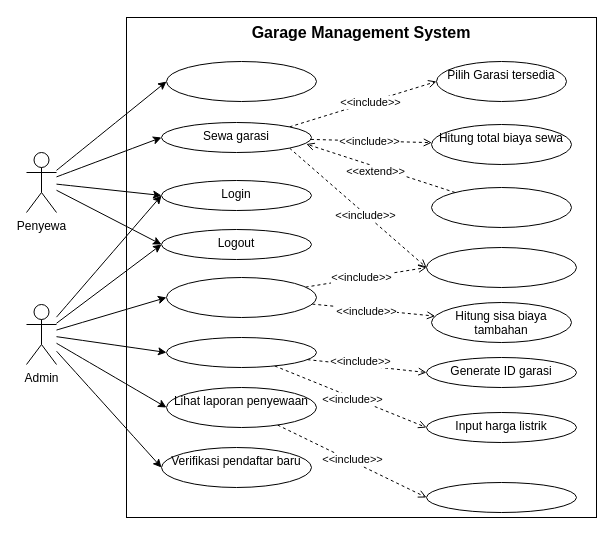
The diagram is 614 pixels wide and 535 high, and some of its shapes have lost their labels. Here are the shapes that lost their labels. From the top down, the centre of each, then its label:
At [241,81]: "Registrasi penyewa".
At [501,207]: "Hitung total biaya listrik".
At [501,267]: "Unggah bukti pelunasan".
At [241,297]: "Perpanjang status garasi".
At [241,352]: "Buat garasi".
At [501,497]: "Filter Laporan".
